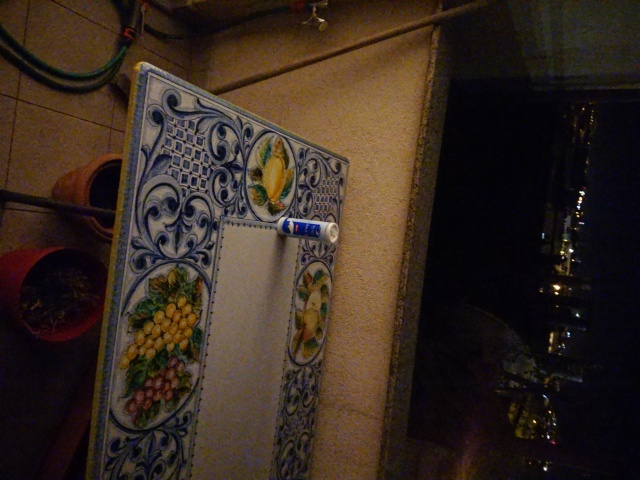Solana Pag Fine Sea Salt 250g: (274, 214, 342, 246)
